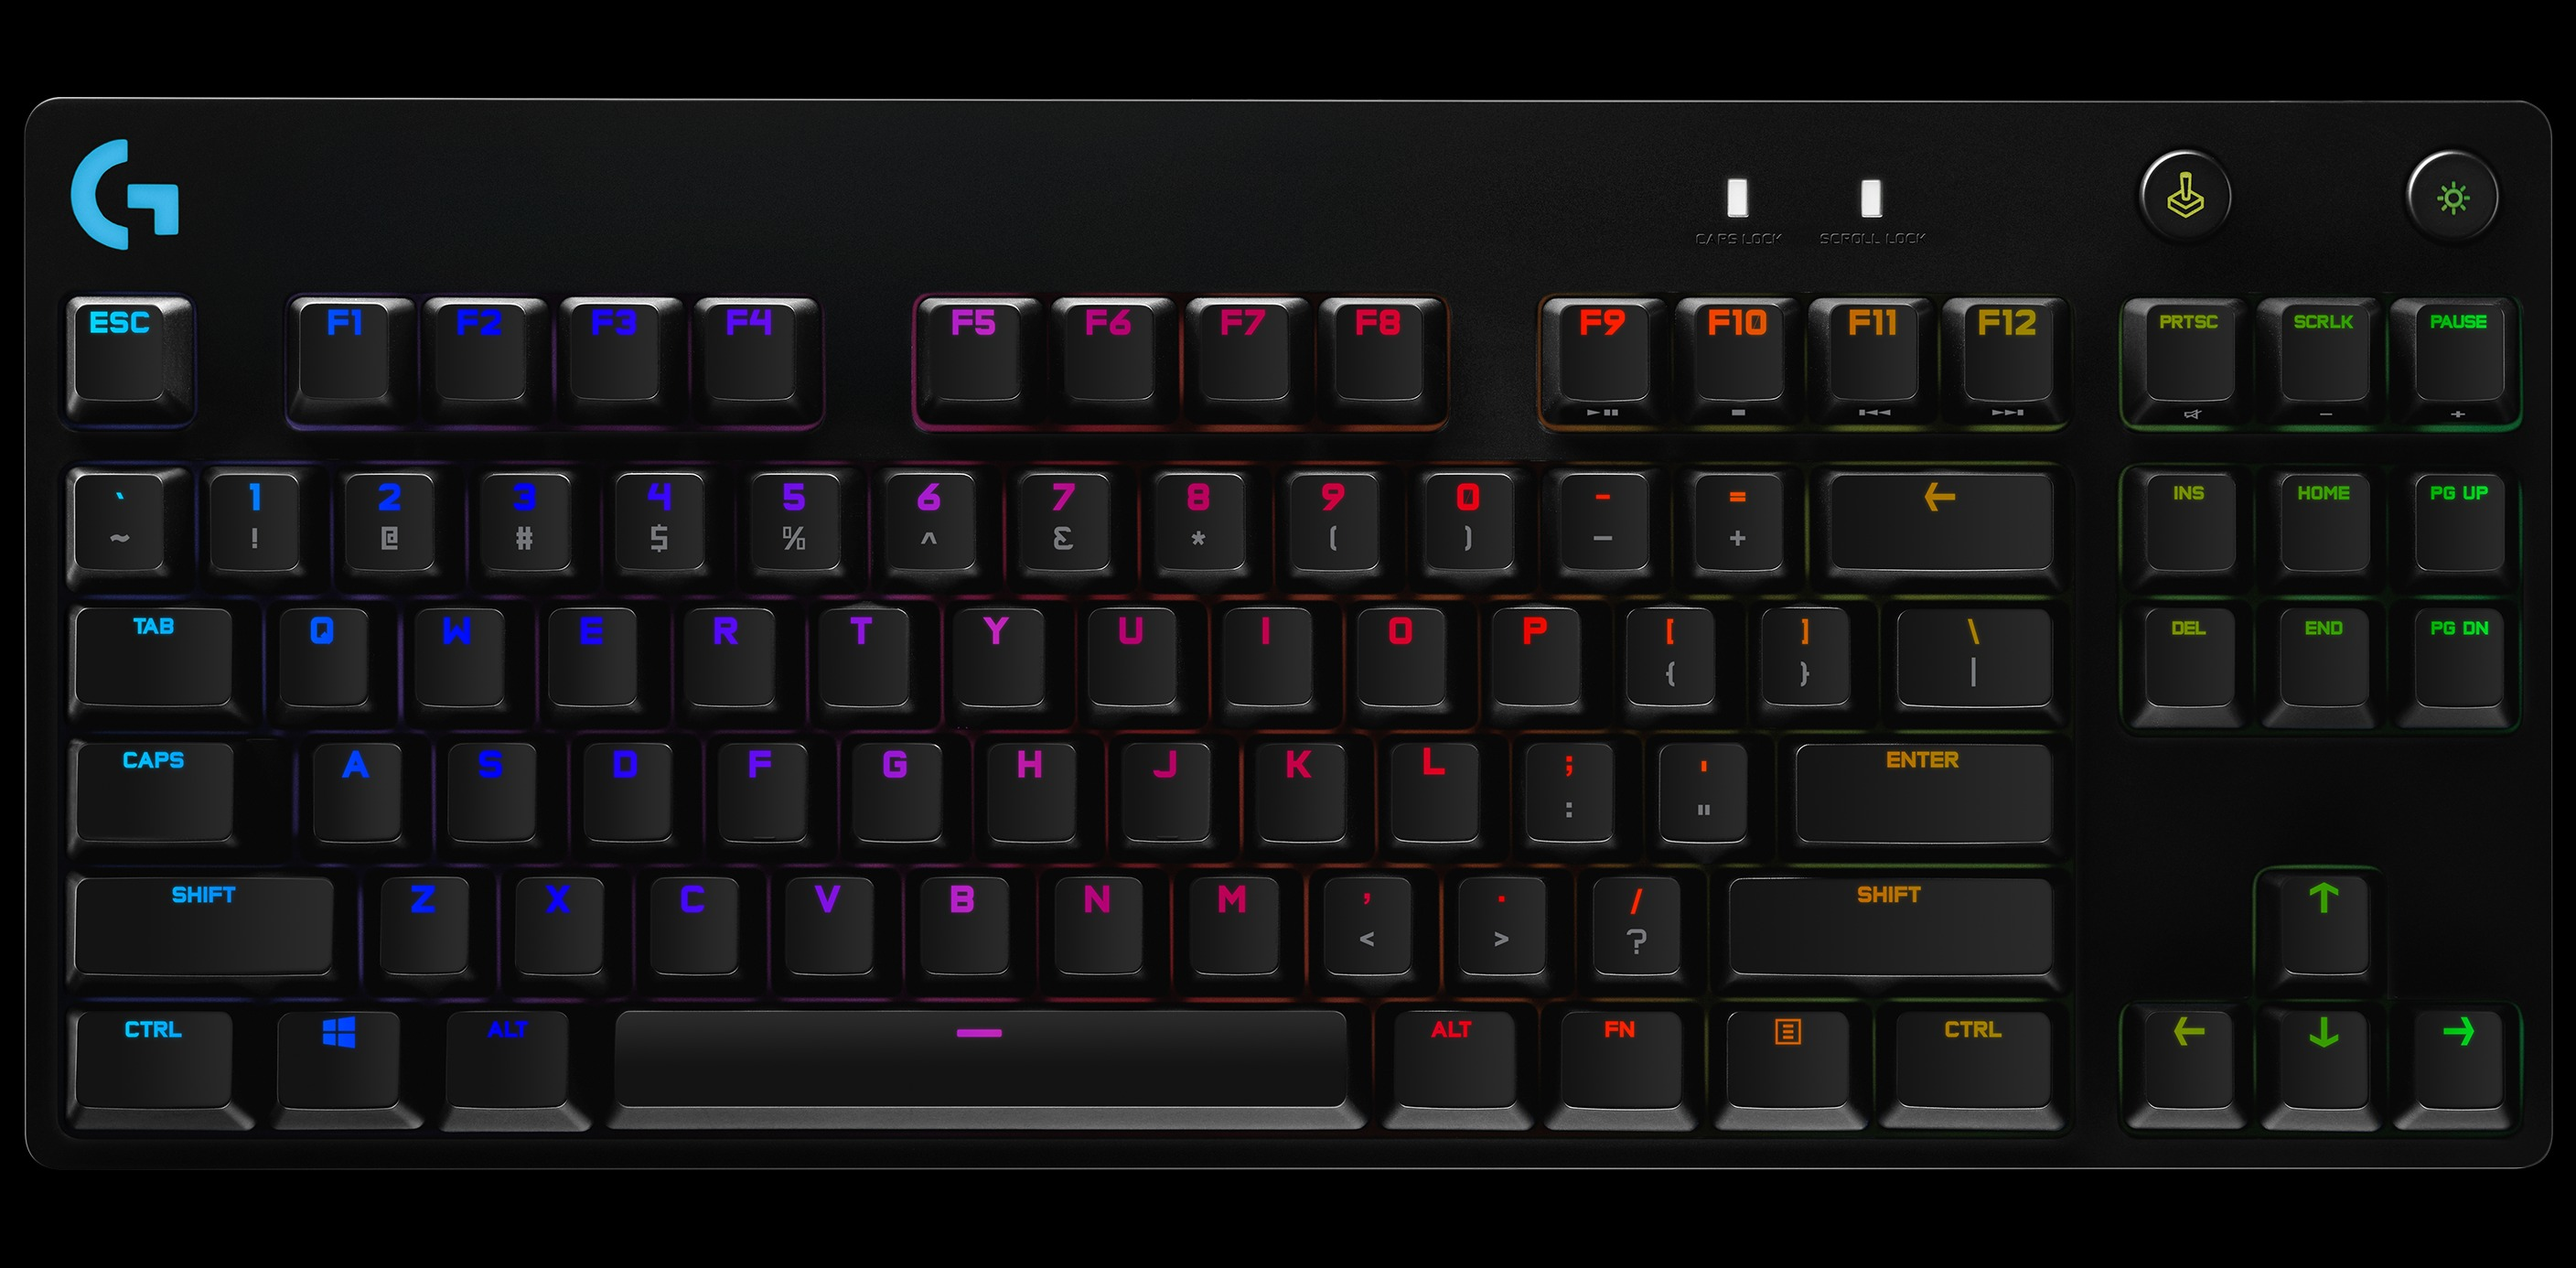keyboard: (23, 99, 2556, 1169)
